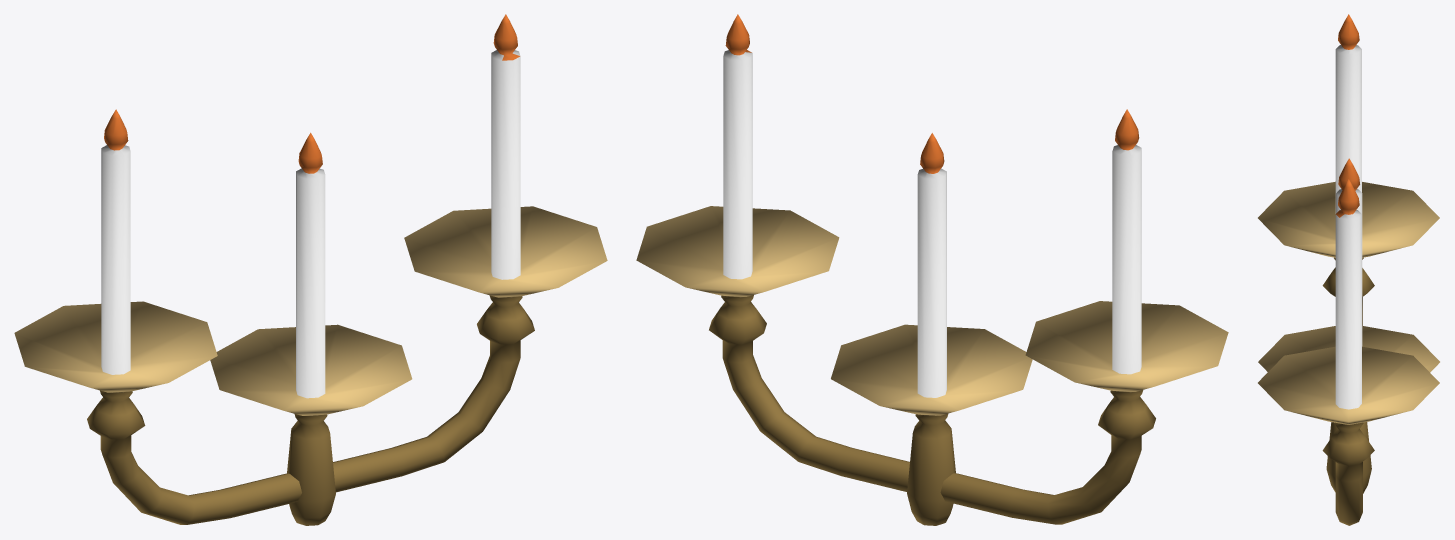
The model's file is Kyandol_three.fbx.
The picture shows the model from 3 angles, left to right: view 1: azimuth 30°, elevation 25°; view 2: azimuth 150°, elevation 25°; view 3: azimuth 270°, elevation 25°; orthographic projection. The views are drawn at different scales.
Visible parts, largest first — view 1: Kayndol.001, Kayndol; view 2: Kayndol.001, Kayndol; view 3: Kayndol.001, Kayndol.
Boxes of the visible parts, left/top/right/bottom form: Kayndol.001: left=14, top=14, right=607, bottom=524; Kayndol: left=210, top=132, right=412, bottom=525; Kayndol.001: left=636, top=14, right=1228, bottom=524; Kayndol: left=831, top=133, right=1032, bottom=525; Kayndol.001: left=1258, top=14, right=1439, bottom=525; Kayndol: left=1258, top=158, right=1439, bottom=493.
Size of the model in its own units: 459 by 351 by 147.
